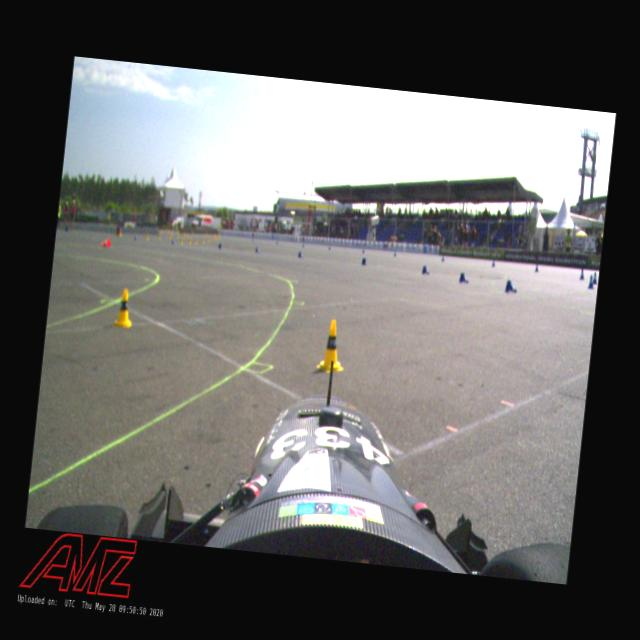blue_cone: (504, 278, 517, 292), (578, 266, 586, 280), (459, 272, 469, 282), (591, 270, 598, 284), (588, 274, 594, 289), (422, 265, 429, 274), (534, 262, 540, 272), (298, 250, 304, 258), (361, 256, 366, 264), (491, 258, 495, 266), (393, 248, 396, 256), (255, 246, 259, 252), (218, 242, 222, 248), (442, 253, 444, 260), (362, 245, 364, 252)
orange_cone: (96, 235, 110, 248)
yellow_cone: (315, 318, 348, 374), (113, 286, 136, 328)
